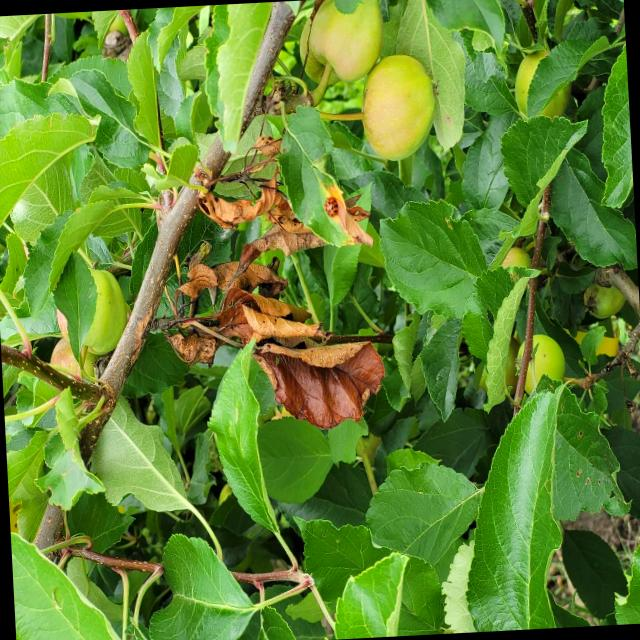-FireBlight-: (154, 73, 384, 424)
